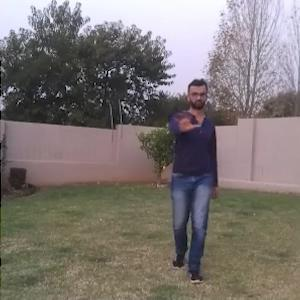follow_hand: (173, 103, 201, 133)
